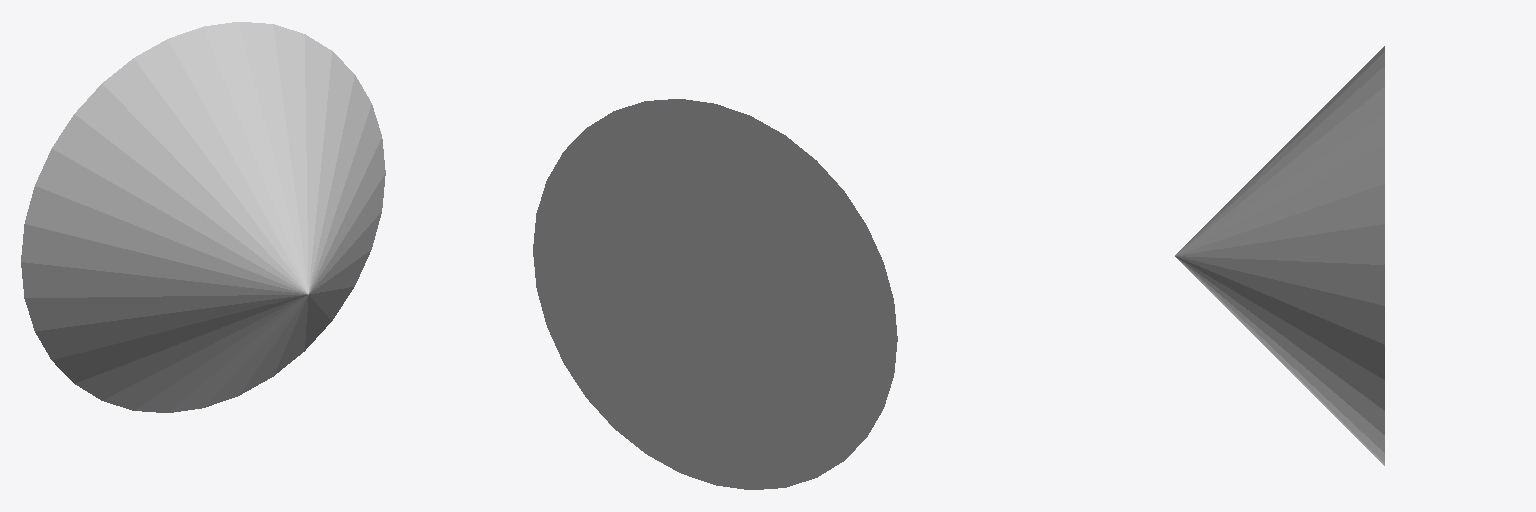
Rendered from spotlight22222.obj.
3 renders of one model, left to right at view 1: azimuth 30°, elevation 25°; view 2: azimuth 150°, elevation 25°; view 3: azimuth 270°, elevation 25°, orthographic.
Parts seen in each view (by area): view 1: Cone; view 2: Cone; view 3: Cone.
Boxes of the visible parts, box(x1,y1,x2,y2) form: Cone: box(21, 22, 385, 412); Cone: box(533, 99, 897, 489); Cone: box(1175, 46, 1384, 465).
Size of the model in its own units: 1 by 1 by 0.5.